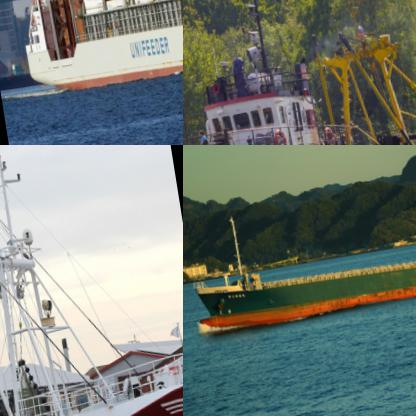Fishing Boat: (0, 145, 182, 415), (183, 0, 415, 144)
Merchant Ship: (183, 146, 415, 336), (0, 0, 182, 97)
